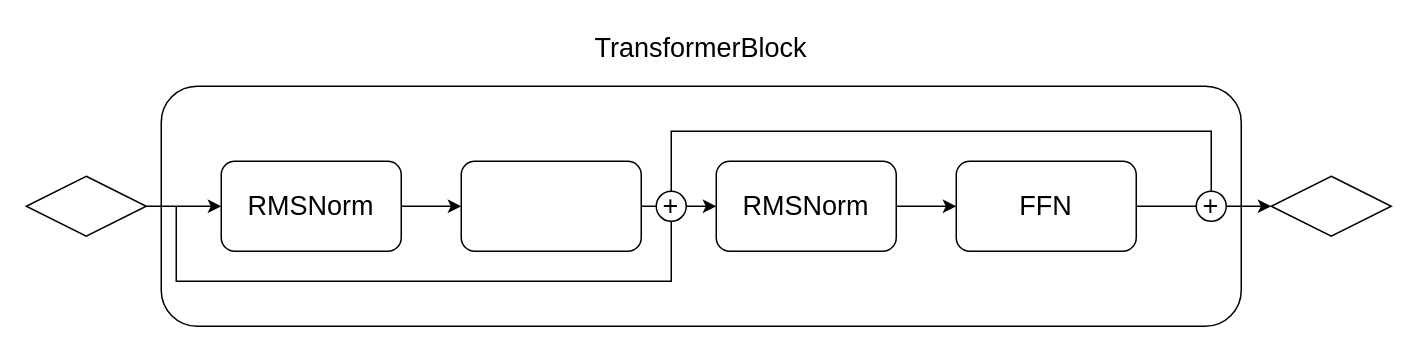
Image size: 1418x353. Some labels were removed from this diagram. Each missing label, with the centre of its shape:
"Attention" belongs at point 550,205.
"input" belongs at point 85,205.
"output" belongs at point 1330,205.
